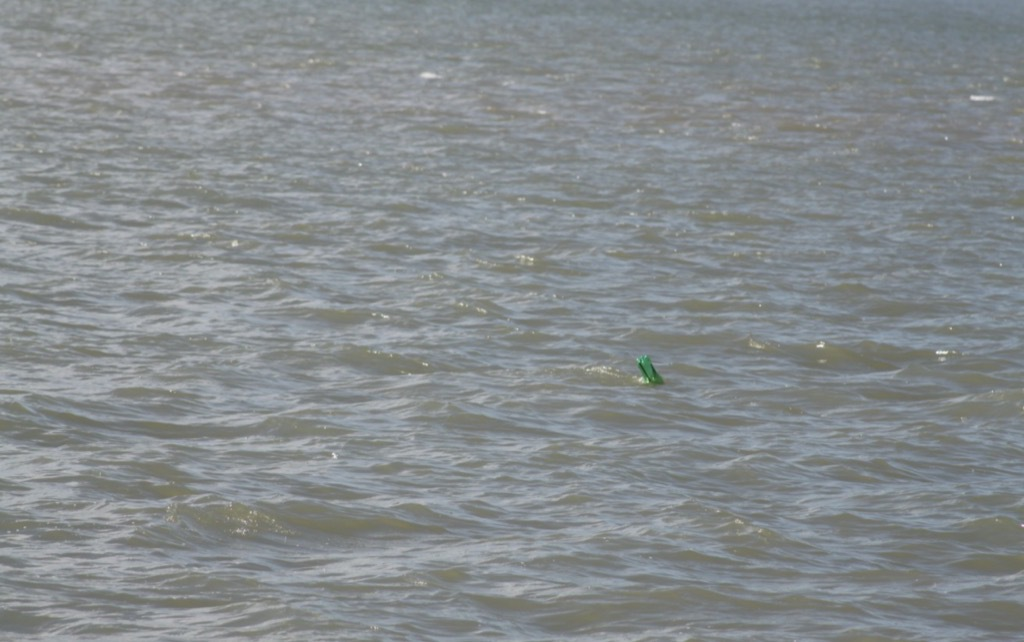plastic: (606, 336, 687, 408)
